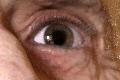eye: (44, 25, 74, 47)
